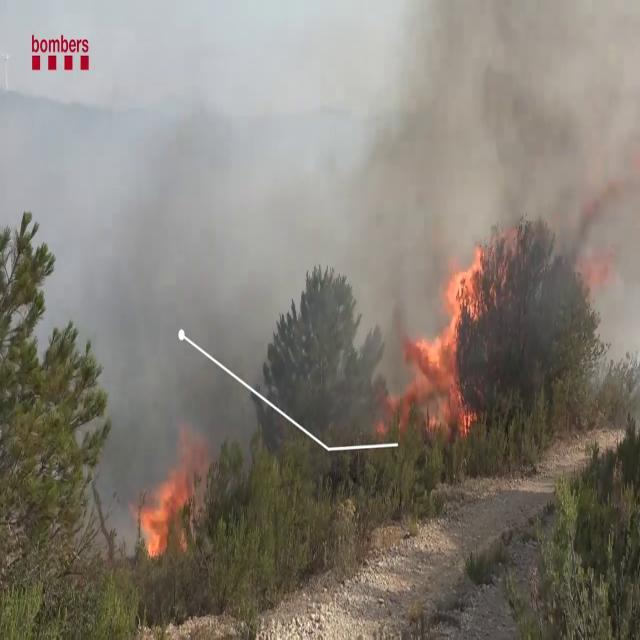Fire: (406, 239, 486, 438), (130, 448, 194, 566)
Smoke: (88, 14, 304, 526), (348, 0, 639, 364)
